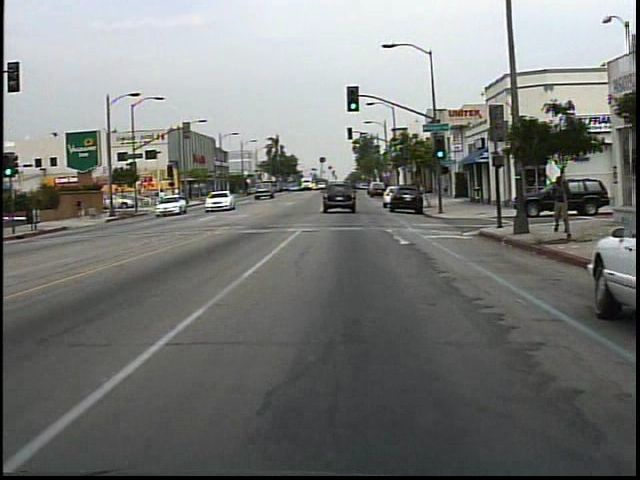person: (548, 169, 573, 241), (73, 192, 92, 220), (156, 184, 172, 209)
